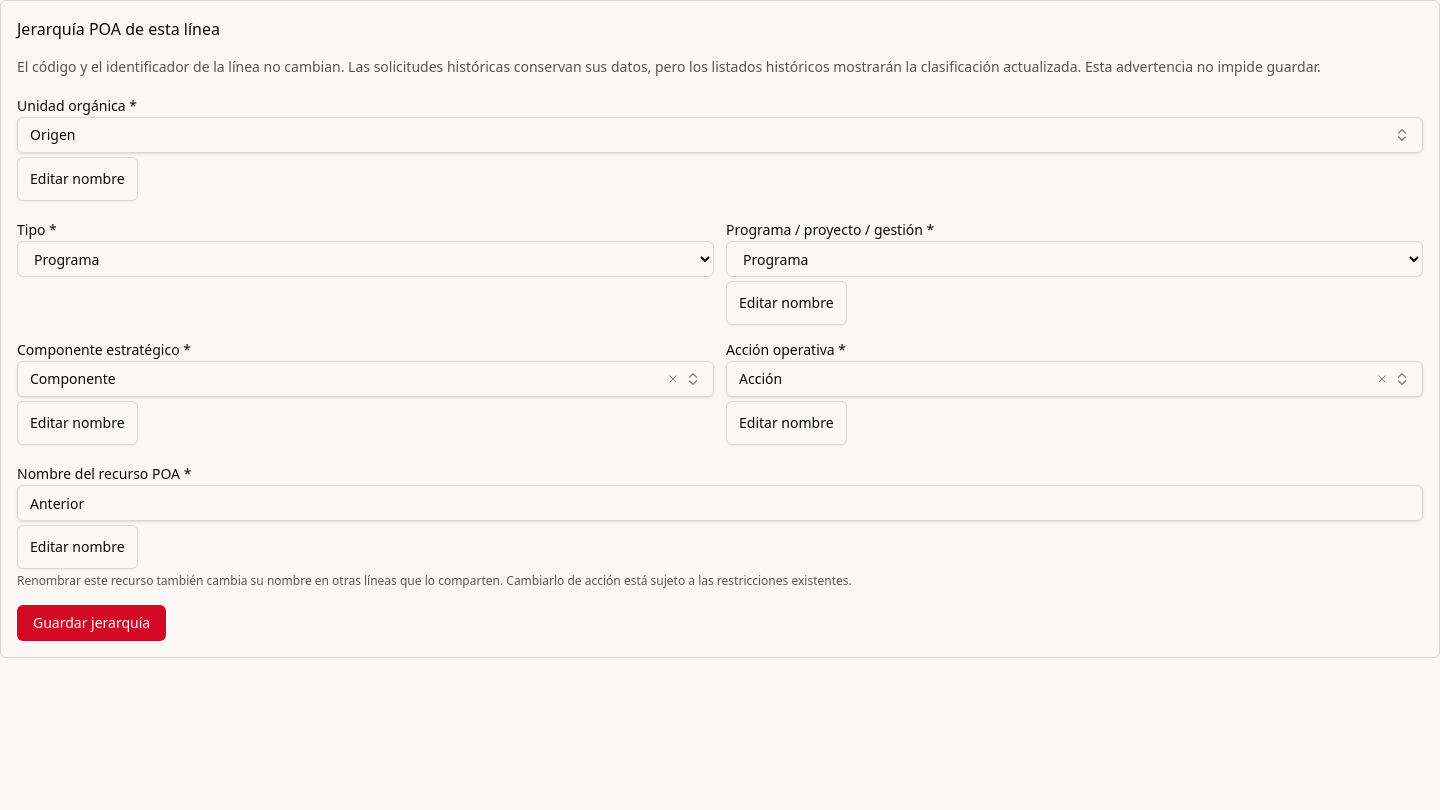
it: edición de jerarquía POA › retains resource name and avoids a false success on HTTP 500
The image size is (1440, 810).
Replace the text in the field labelled "Nombre del recurso POA *" with "Nombre privado" at (720, 503), box [17, 485, 1423, 521]
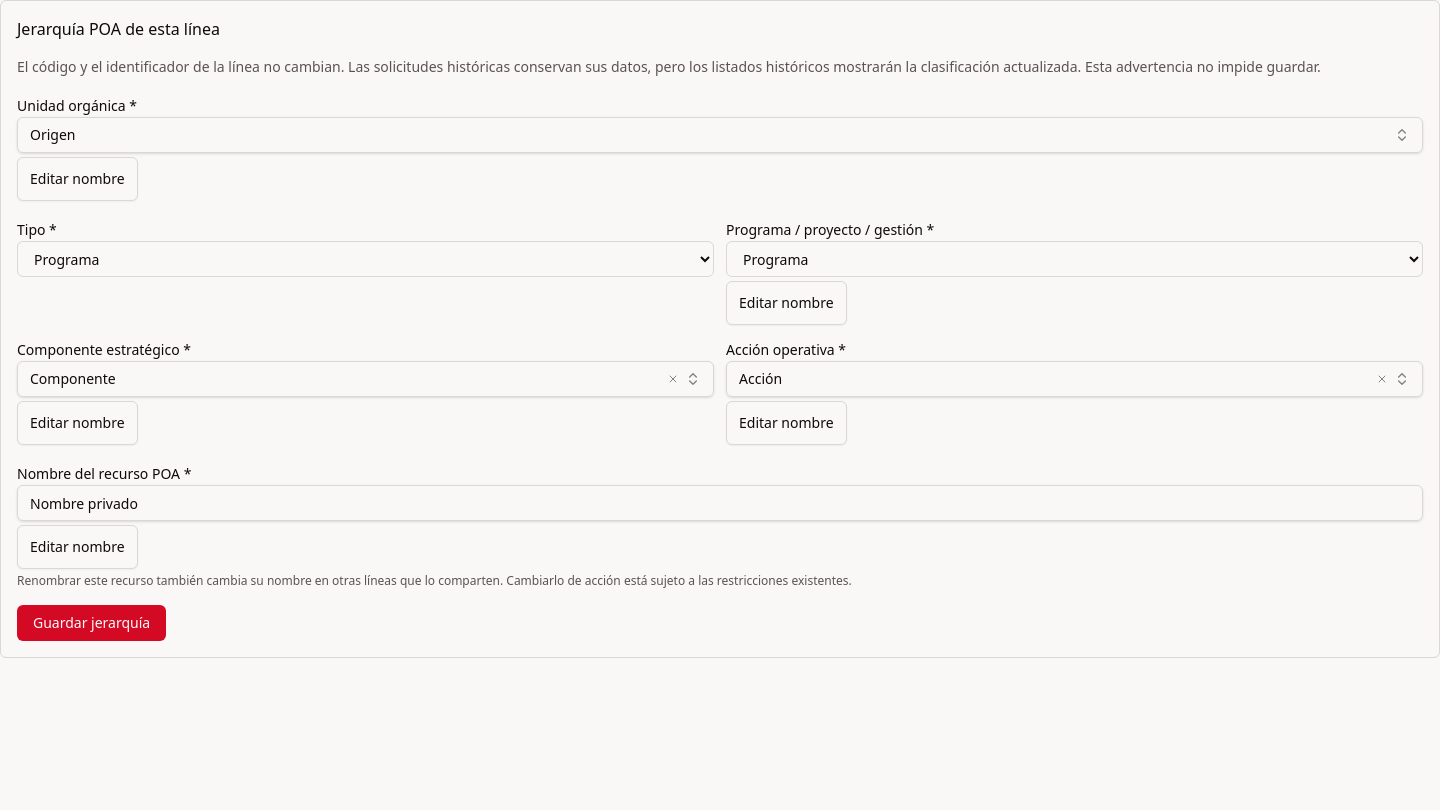
Click the button "Guardar jerarquía" at (92, 623), box [17, 605, 166, 641]
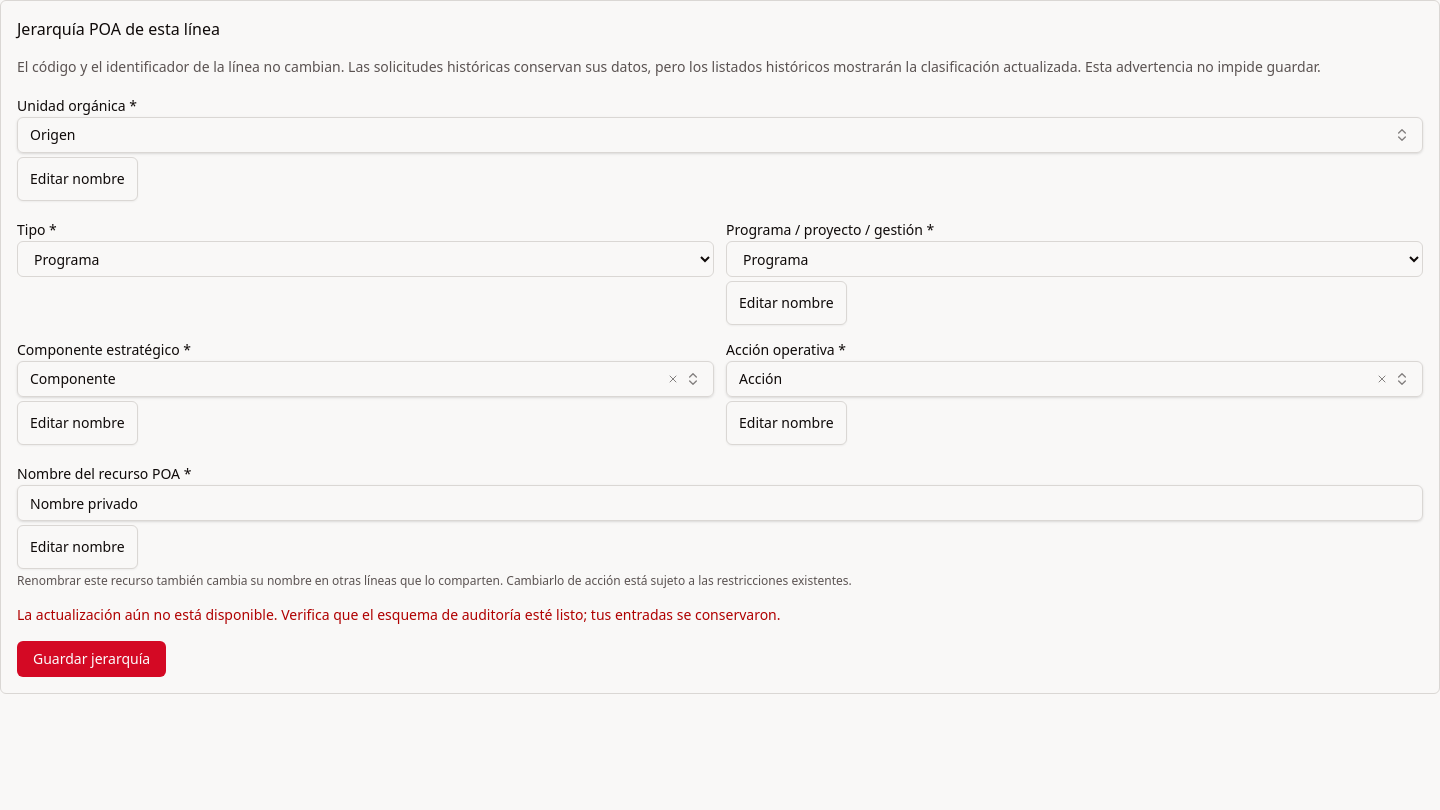
Expected: the message does not show "diagnóstico privado", [17, 605, 780, 624]
Expected: the message shows "actualización aún no está disponible", [17, 605, 780, 624]
